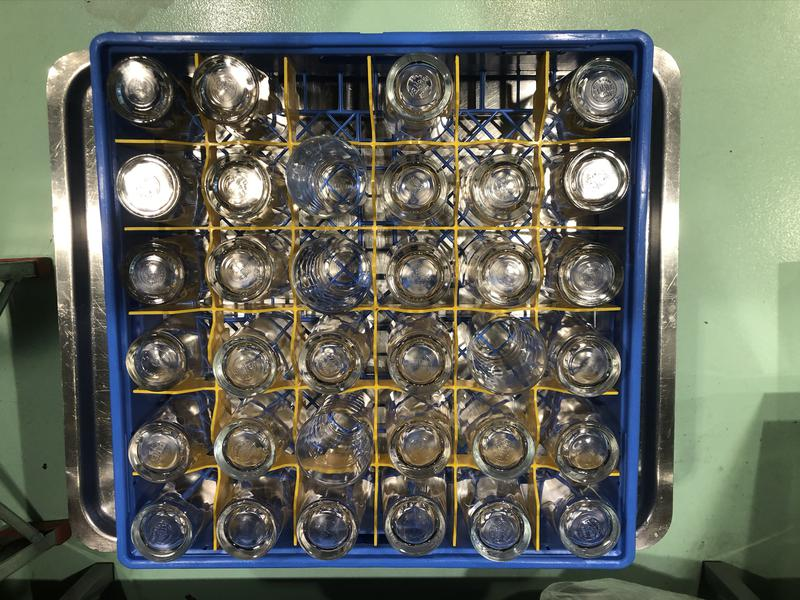Glass: (535, 397, 621, 482), (457, 471, 531, 565), (298, 397, 373, 489), (212, 397, 293, 481), (210, 316, 291, 400), (129, 484, 217, 561), (285, 134, 365, 218), (464, 311, 546, 392), (126, 400, 206, 482), (459, 396, 537, 480), (540, 475, 618, 558), (104, 55, 192, 128), (291, 239, 372, 318), (205, 233, 292, 305), (460, 236, 543, 311), (384, 53, 455, 139), (455, 154, 538, 226), (204, 153, 288, 224), (387, 392, 452, 482), (546, 323, 622, 399), (192, 53, 270, 126), (382, 471, 447, 558), (115, 153, 198, 221), (219, 480, 287, 563), (561, 55, 633, 133), (544, 241, 626, 309), (548, 146, 630, 213), (121, 325, 204, 391), (124, 238, 202, 306), (295, 492, 366, 560), (378, 151, 446, 221), (298, 325, 367, 393), (384, 242, 454, 307)
